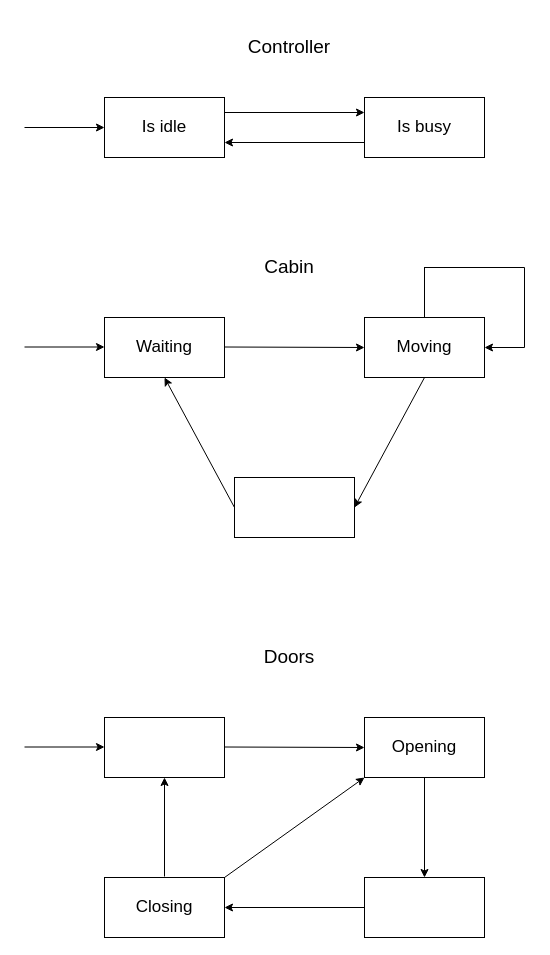
Image size: 550x955. Some labels were removed from this diagram. The centre of each missing label's shape, as x and y in pixels:
"Close" belongs at (x=164, y=747).
"Open" belongs at (x=424, y=907).
"Stopping" belongs at (x=294, y=507).
